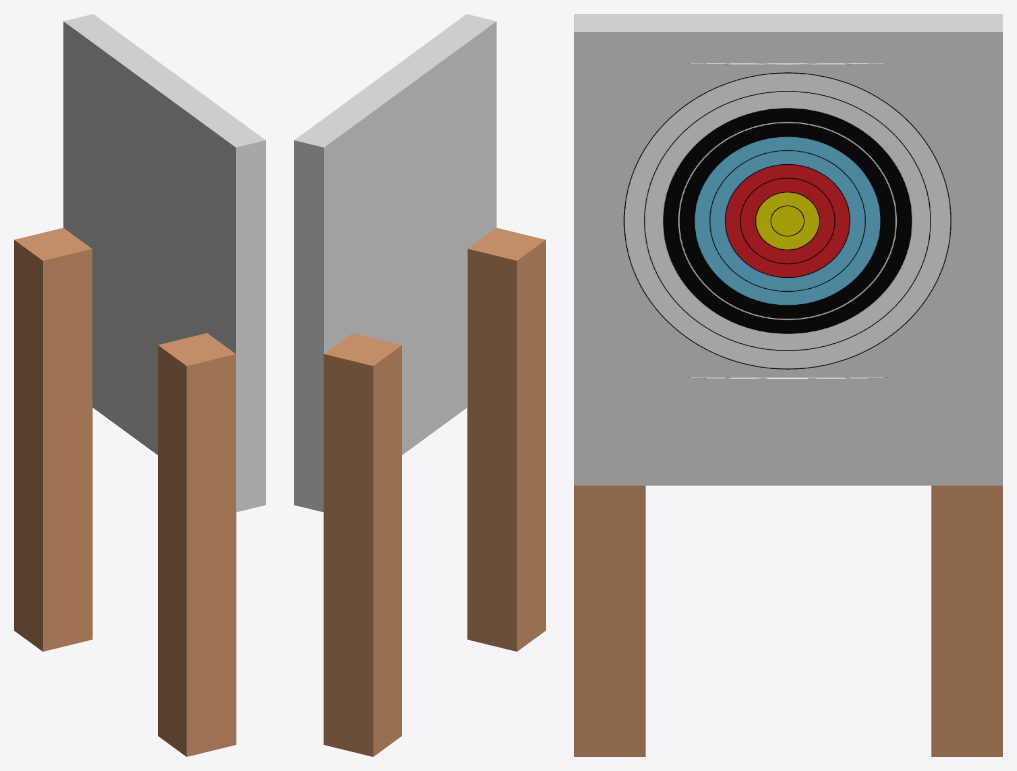
Rendered from target.fbx.
3 renders of one model, left to right at view 1: azimuth 30°, elevation 25°; view 2: azimuth 150°, elevation 25°; view 3: azimuth 270°, elevation 25°, orthographic. The views are drawn at different scales.
Visible parts, largest first — view 1: Plate, Leg Right, Leg Left; view 2: Plate, Leg Right, Leg Left; view 3: Plate, Target, Leg Right, Leg Left.
Part boxes in pixels (box(x1,y1,x2,y2)): Plate: box(63, 14, 265, 512); Leg Right: box(14, 228, 92, 651); Leg Left: box(158, 333, 236, 756); Plate: box(294, 14, 496, 512); Leg Right: box(323, 333, 401, 756); Leg Left: box(467, 228, 545, 651); Plate: box(574, 14, 1002, 485); Target: box(623, 63, 951, 378); Leg Right: box(931, 485, 1002, 756); Leg Left: box(574, 485, 645, 756).
Bounding box in the file's own units: 32.74 × 229 × 120.
